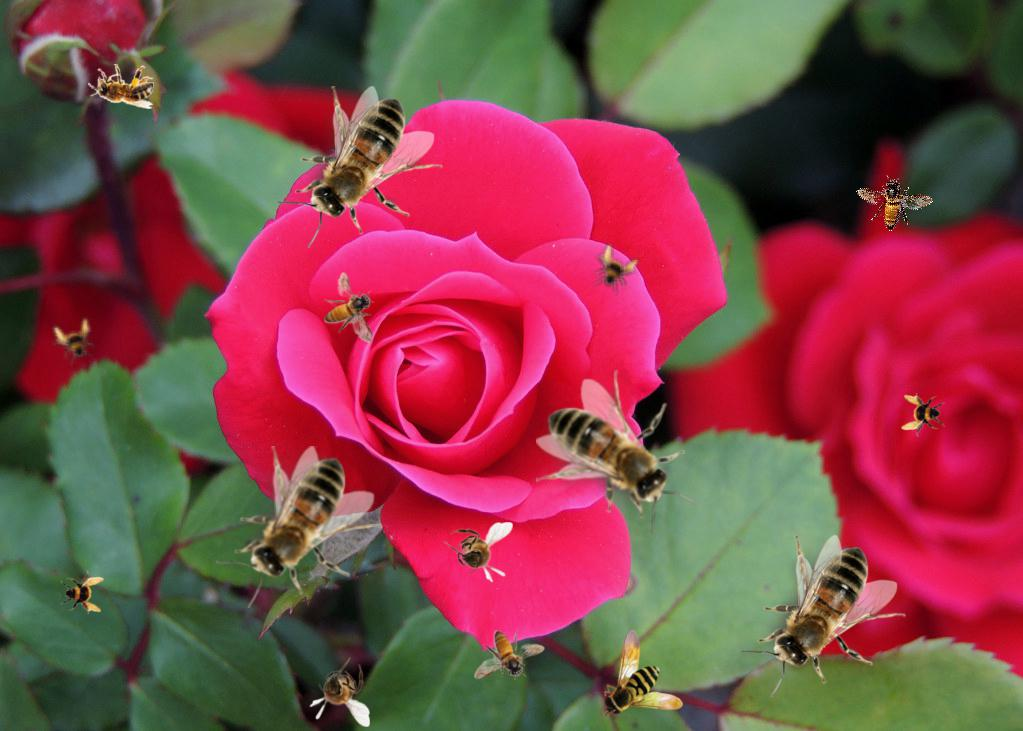Bee: (536, 370, 698, 537), (739, 535, 906, 697), (216, 446, 383, 608), (276, 86, 443, 248), (601, 629, 683, 717), (847, 163, 935, 242), (309, 657, 370, 727), (443, 522, 513, 583), (323, 271, 375, 344), (583, 239, 643, 299), (474, 630, 545, 680), (45, 313, 103, 371), (88, 64, 154, 109), (901, 393, 945, 437), (60, 570, 104, 614)
